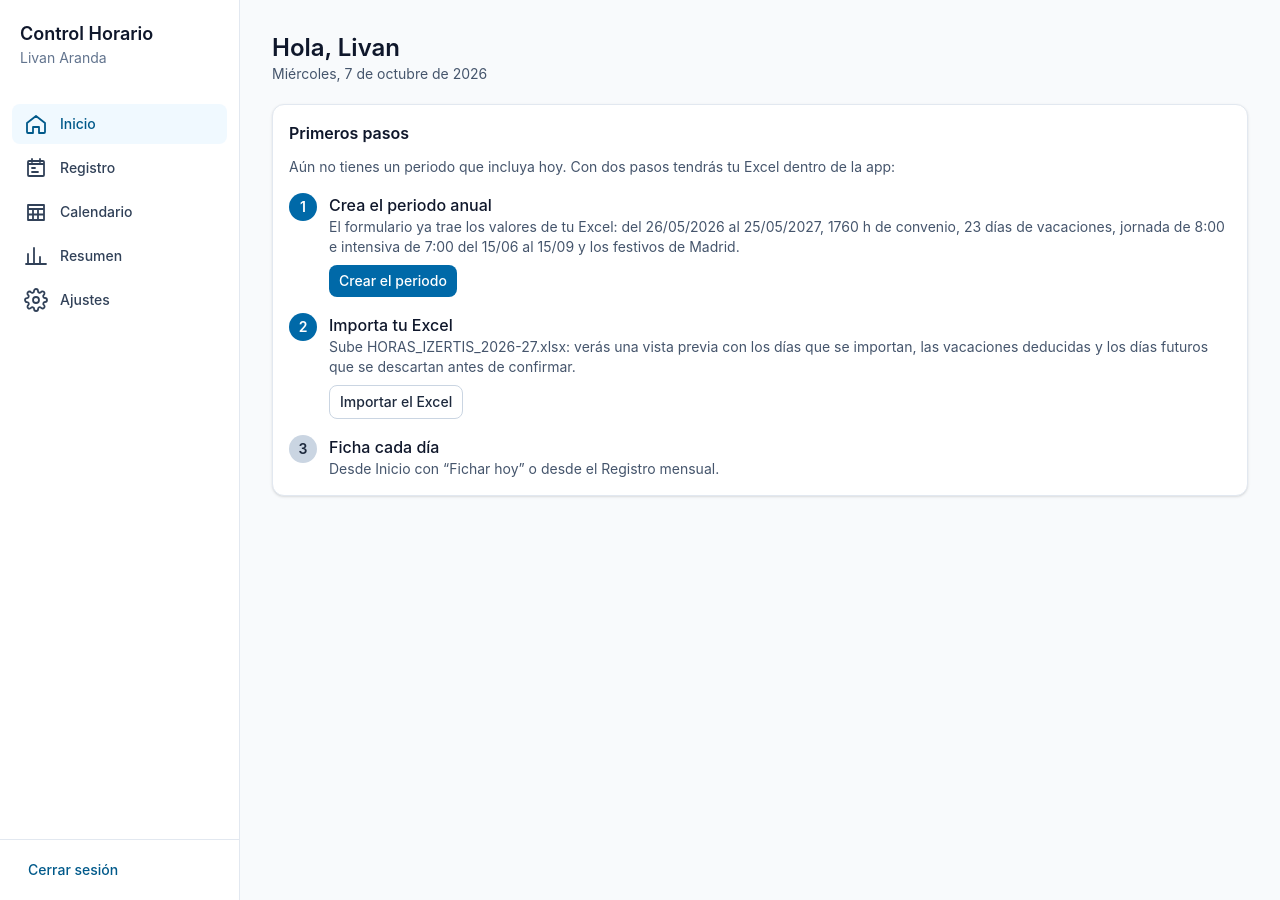
Scenario: Inicio › el asistente lleva al alta del periodo con los valores del Excel ya rellenos
The image size is (1280, 900).
Click the link "Crear el periodo": (393, 281) [329, 265, 457, 297]
(page scrolled)
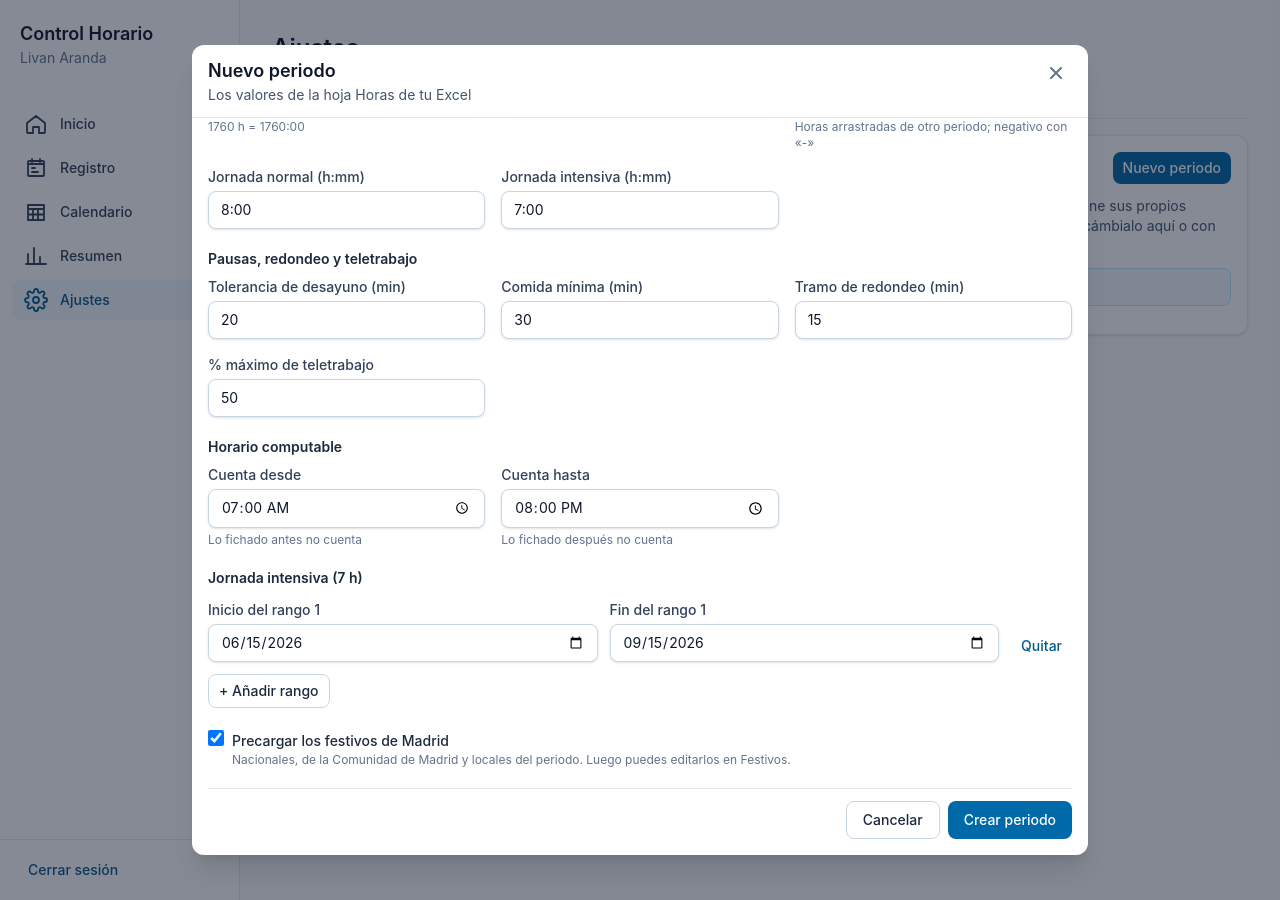
Expected: the date field labelled "Inicio del rango 1" holds "2026-06-15", [208, 624, 598, 662]
Expected: the checkbox labelled "Precargar los festivos de Madrid" is checked, [208, 730, 224, 746]
Click the button "Crear periodo": (1010, 820) [948, 801, 1072, 839]
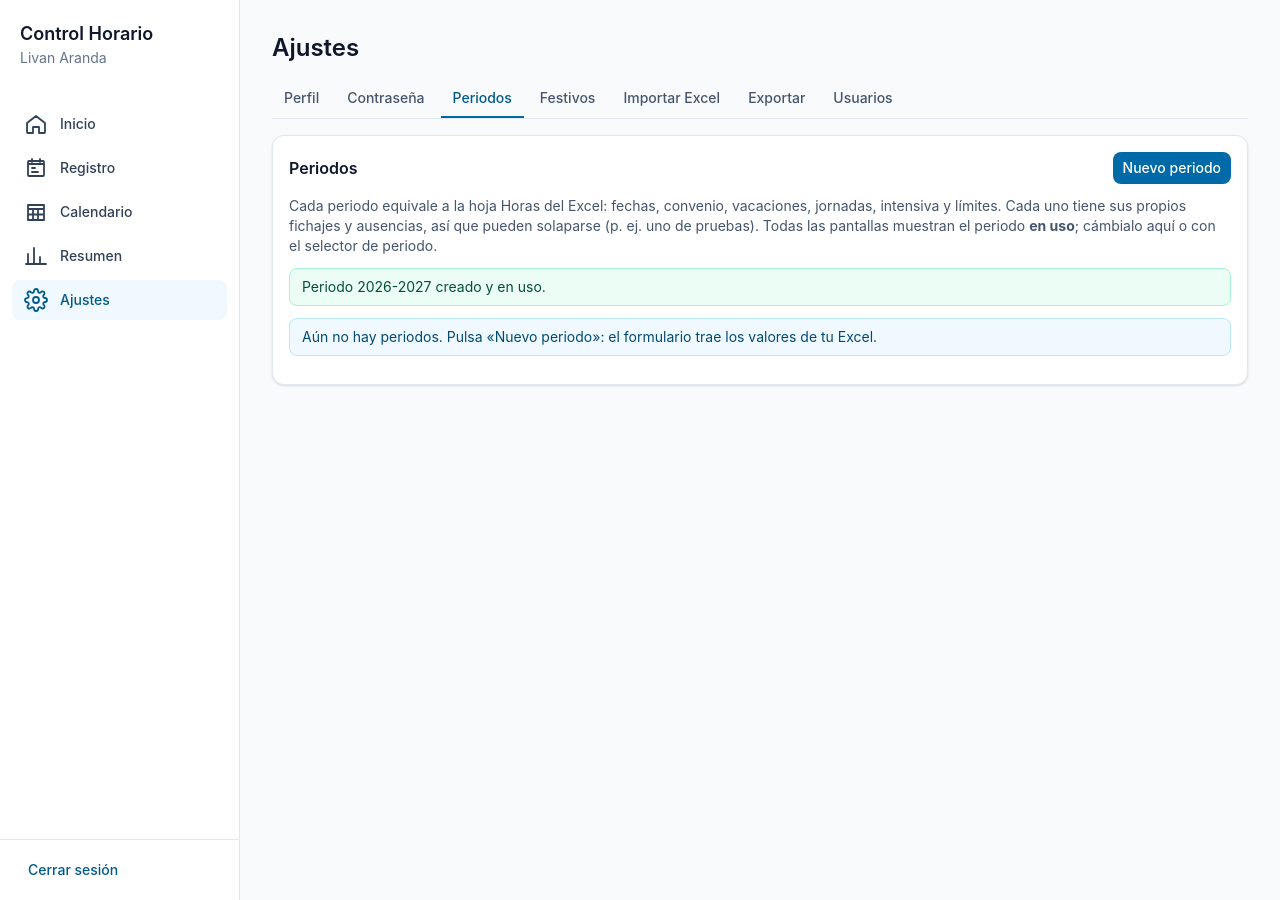
Expected: the text "Periodo 2026-2027 creado y en uso." is shown, [289, 268, 1231, 306]
